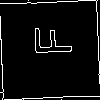F: (25, 24, 73, 57)
